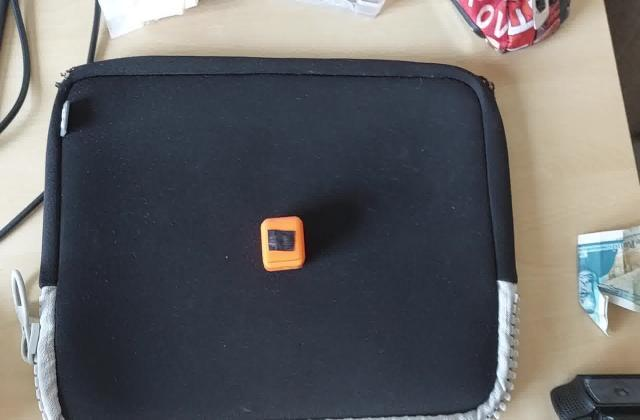black: (264, 226, 299, 256)
sticker: (257, 213, 307, 276)
